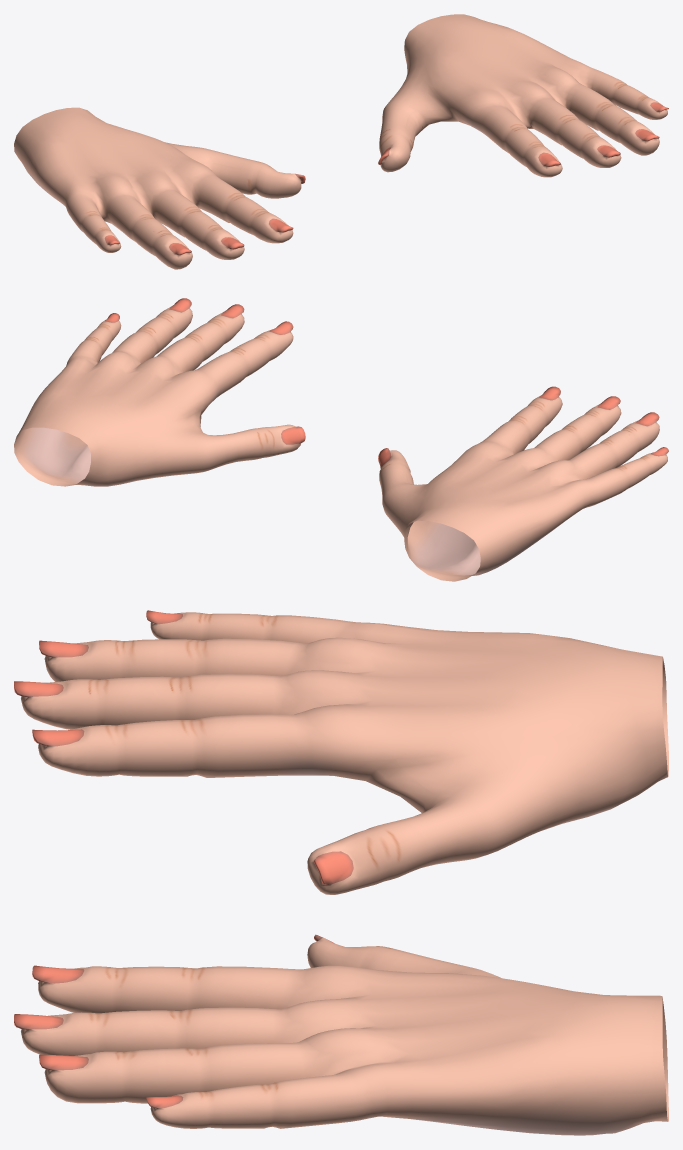
File: female_hand.fbx
3 renders of one model, top to bottom at view 1: azimuth 30°, elevation 25°; view 2: azimuth 150°, elevation 25°; view 3: azimuth 270°, elevation 25°, orthographic. The views are drawn at different scales.
Parts seen in each view (by area): view 1: Female_Hand; view 2: Female_Hand; view 3: Female_Hand.
Boxes of the visible parts, <box> form: Female_Hand: <box>14,14,668,269</box>; Female_Hand: <box>14,298,668,581</box>; Female_Hand: <box>14,610,668,1135</box>.
Bounding box in the file's own units: 27.74 × 3.1 × 15.4.
Materials: 1 (1 with a texture image).
